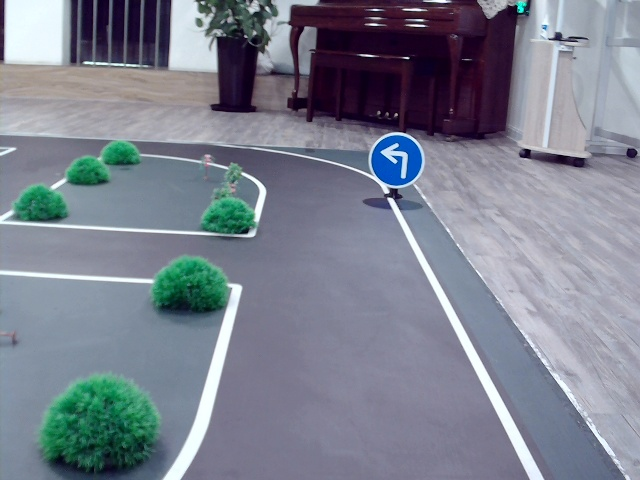turn_left: (381, 139, 412, 177)
